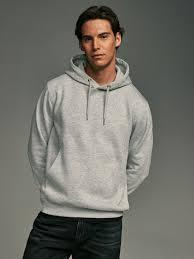hoodie: (27, 50, 155, 220)
